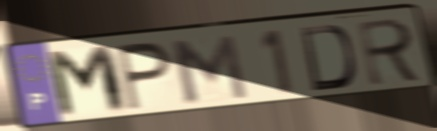1: (259, 27, 296, 96)
D: (298, 23, 358, 94)
M: (42, 43, 132, 122), (166, 32, 252, 106)
P: (115, 39, 175, 114)
R: (355, 16, 426, 89)
